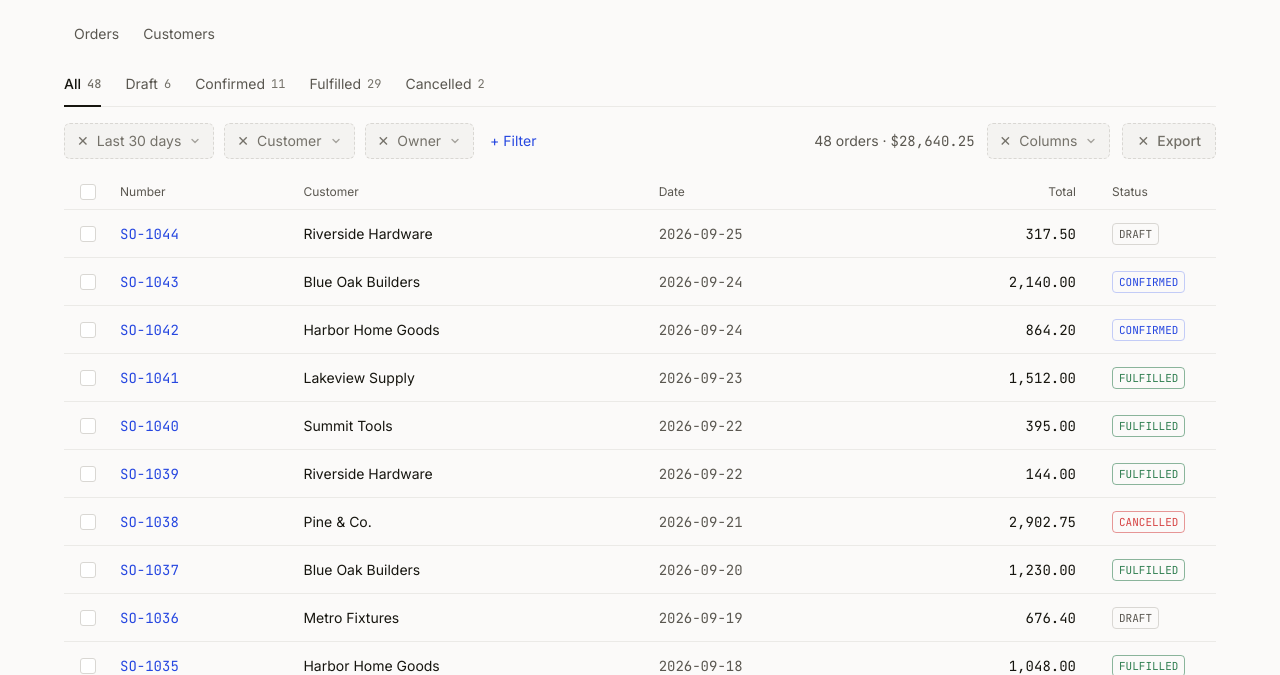
OrdersScreen › selects every visible row from the header checkbox
What coordinates should you click on to do the following:
click the checkbox named "Select every order"
I would click on:
 (88, 192)
Its box is [80,184,96,200].
(page scrolled)
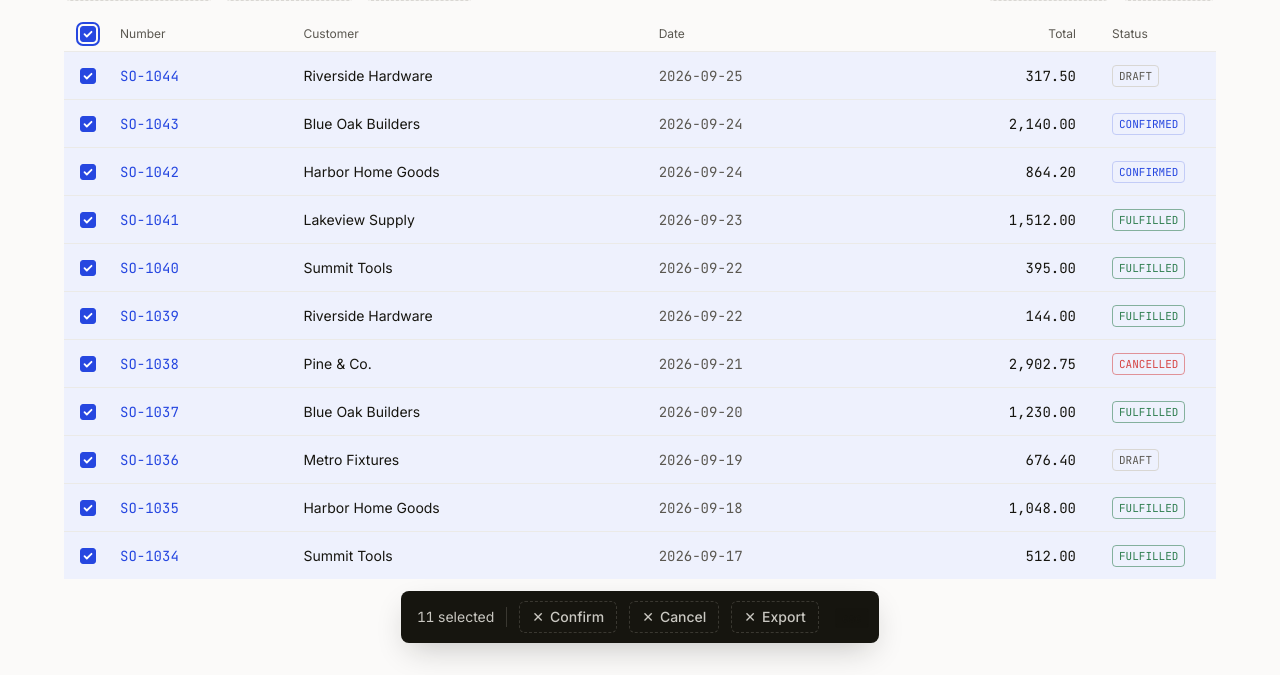
Check: the text "11" is shown, box [417,608,434,626]
